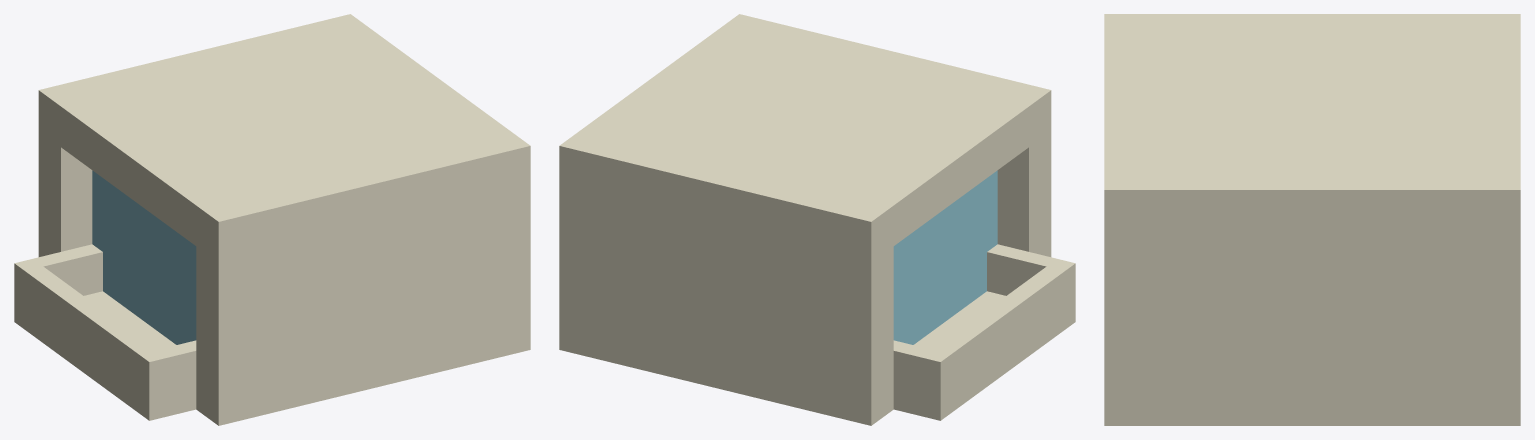
File: modularBuildings_042.obj
3 renders of one model, left to right at view 1: azimuth 30°, elevation 25°; view 2: azimuth 150°, elevation 25°; view 3: azimuth 270°, elevation 25°, orthographic. The views are drawn at different scales.
Parts seen in each view (by area): view 1: modularBuildings_042; view 2: modularBuildings_042; view 3: modularBuildings_042.
Part boxes in pixels (bbox=[...]): modularBuildings_042: bbox=[14, 14, 530, 425]; modularBuildings_042: bbox=[559, 14, 1075, 425]; modularBuildings_042: bbox=[1104, 14, 1520, 425].
Bounding box in the file's own units: 1.15 × 0.625 × 1.
